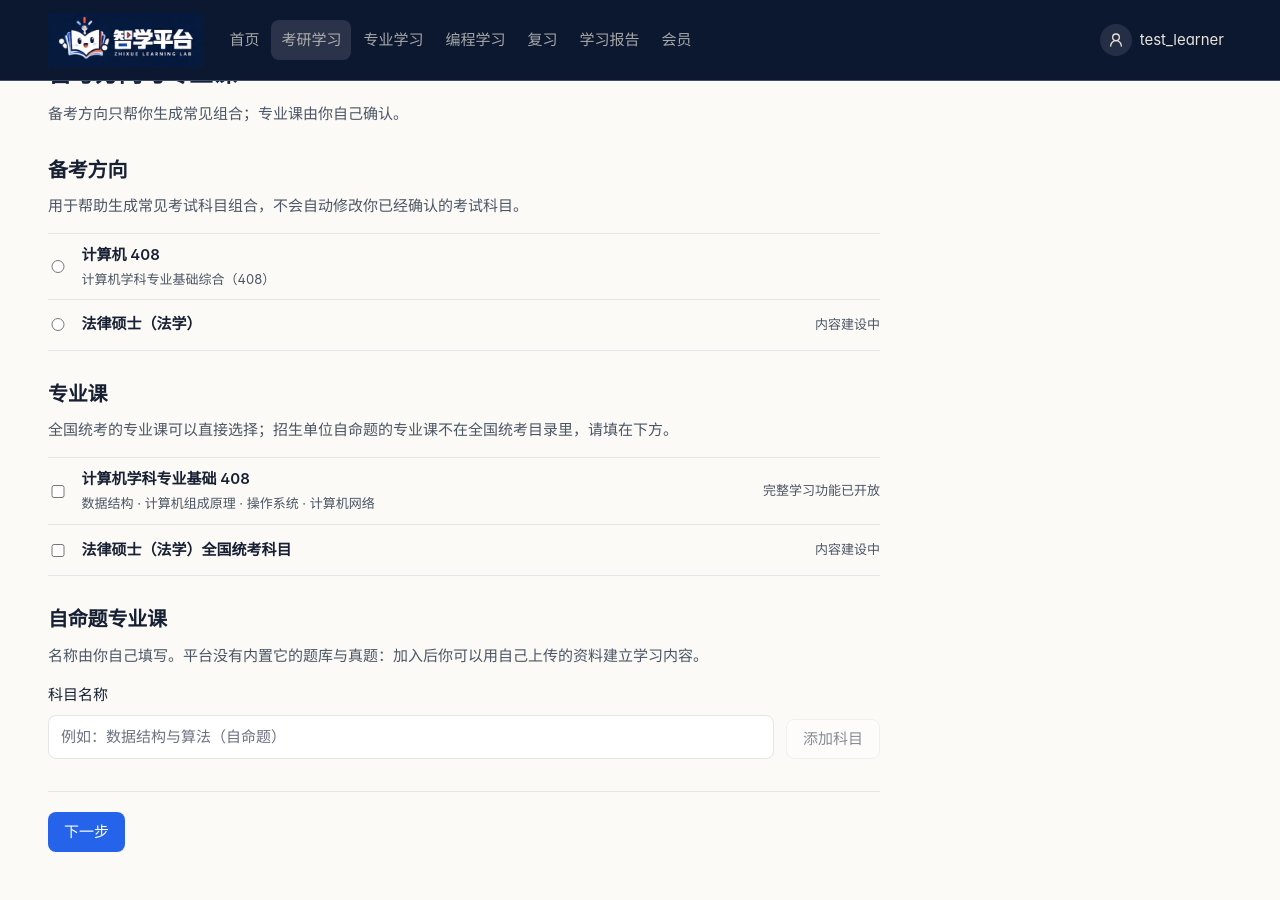
设置考试方案 › walks backwards through the steps with 上一步
(page scrolled)
Expected: the button "上一步" is not shown
Click the button "下一步": (86, 832) [48,812,125,852]
(page scrolled)
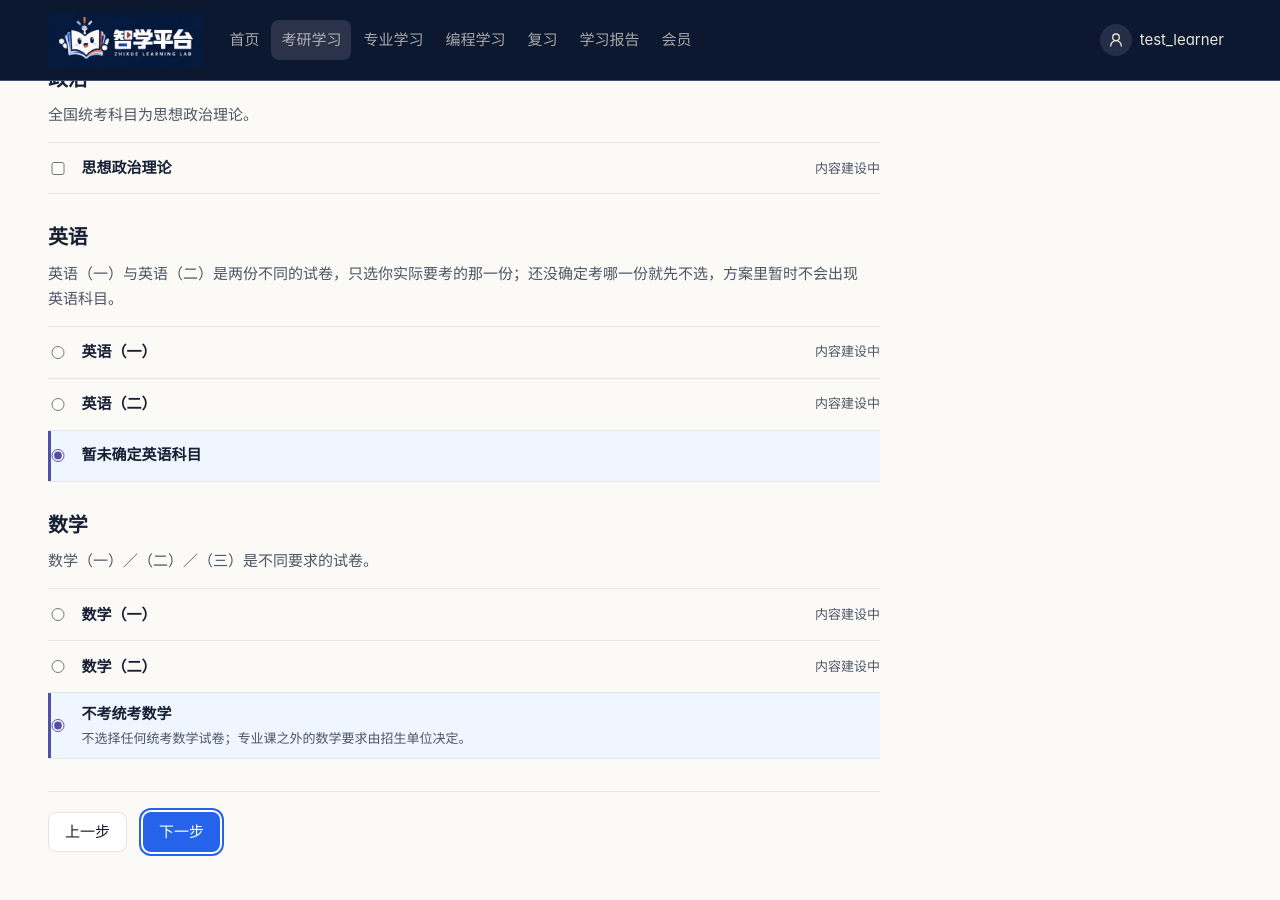
Click the button "上一步": (88, 832) [48,812,127,852]
(page scrolled)
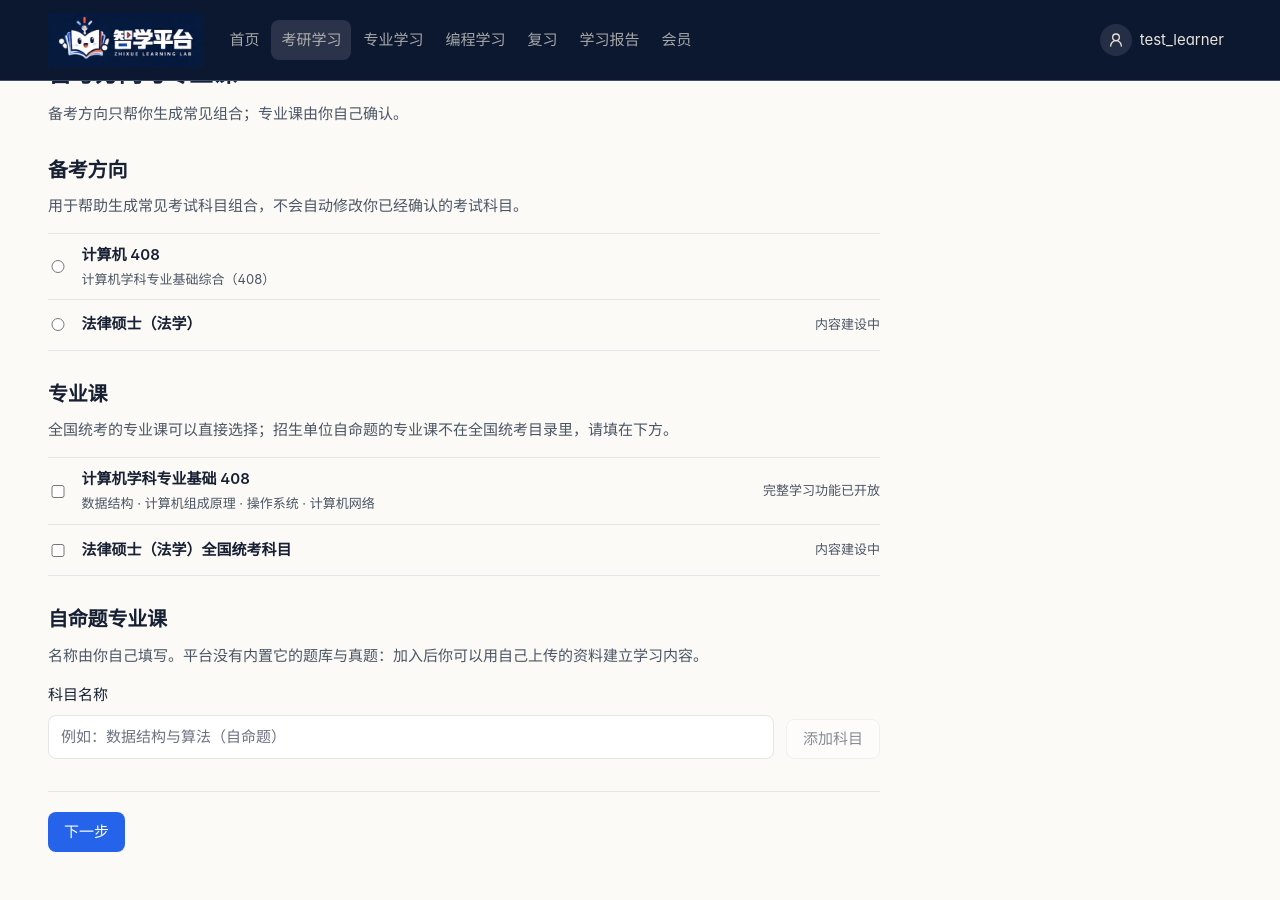
Click the button "下一步": (86, 832) [48,812,125,852]
(page scrolled)
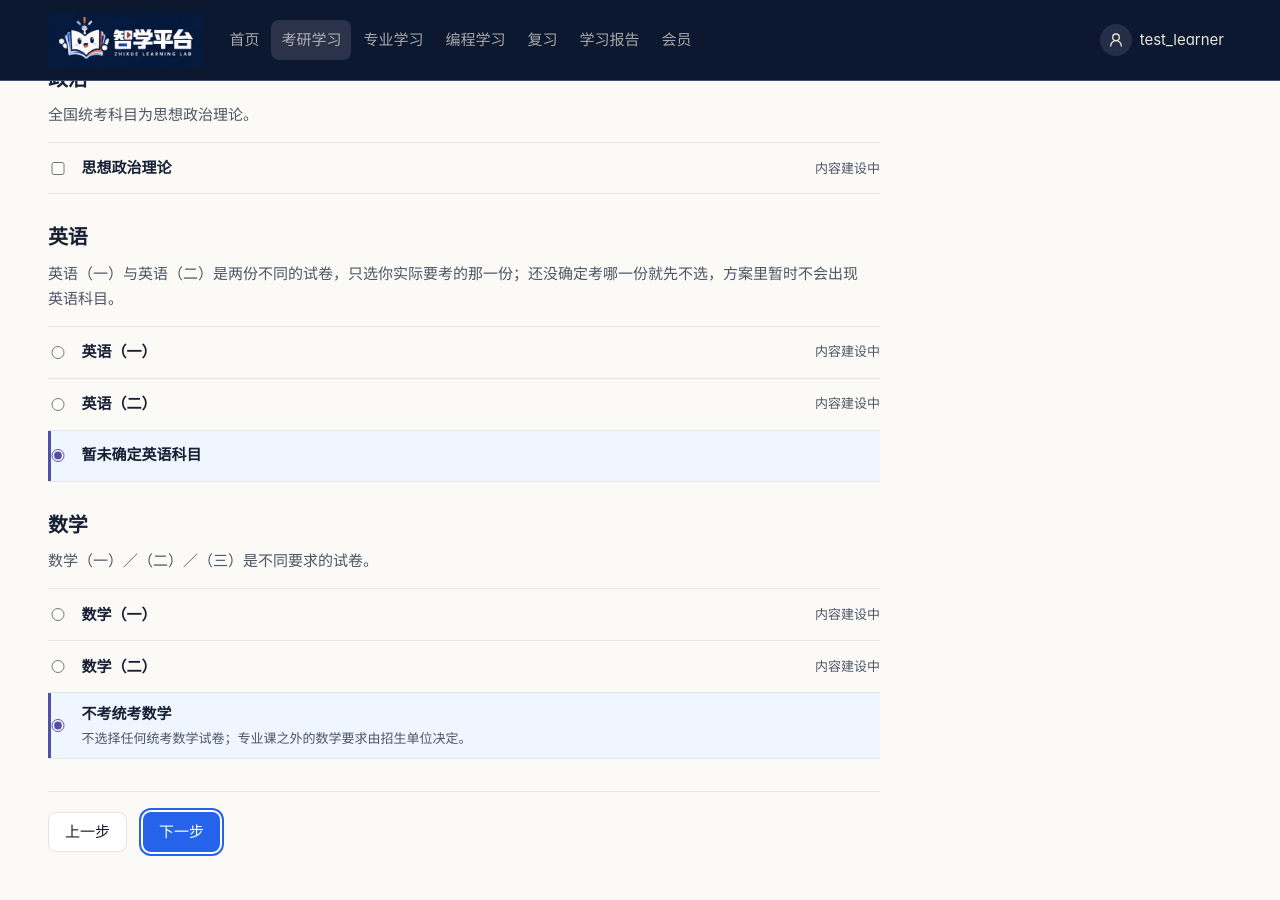
Click the button "下一步": (182, 832) [143,812,220,852]
(page scrolled)
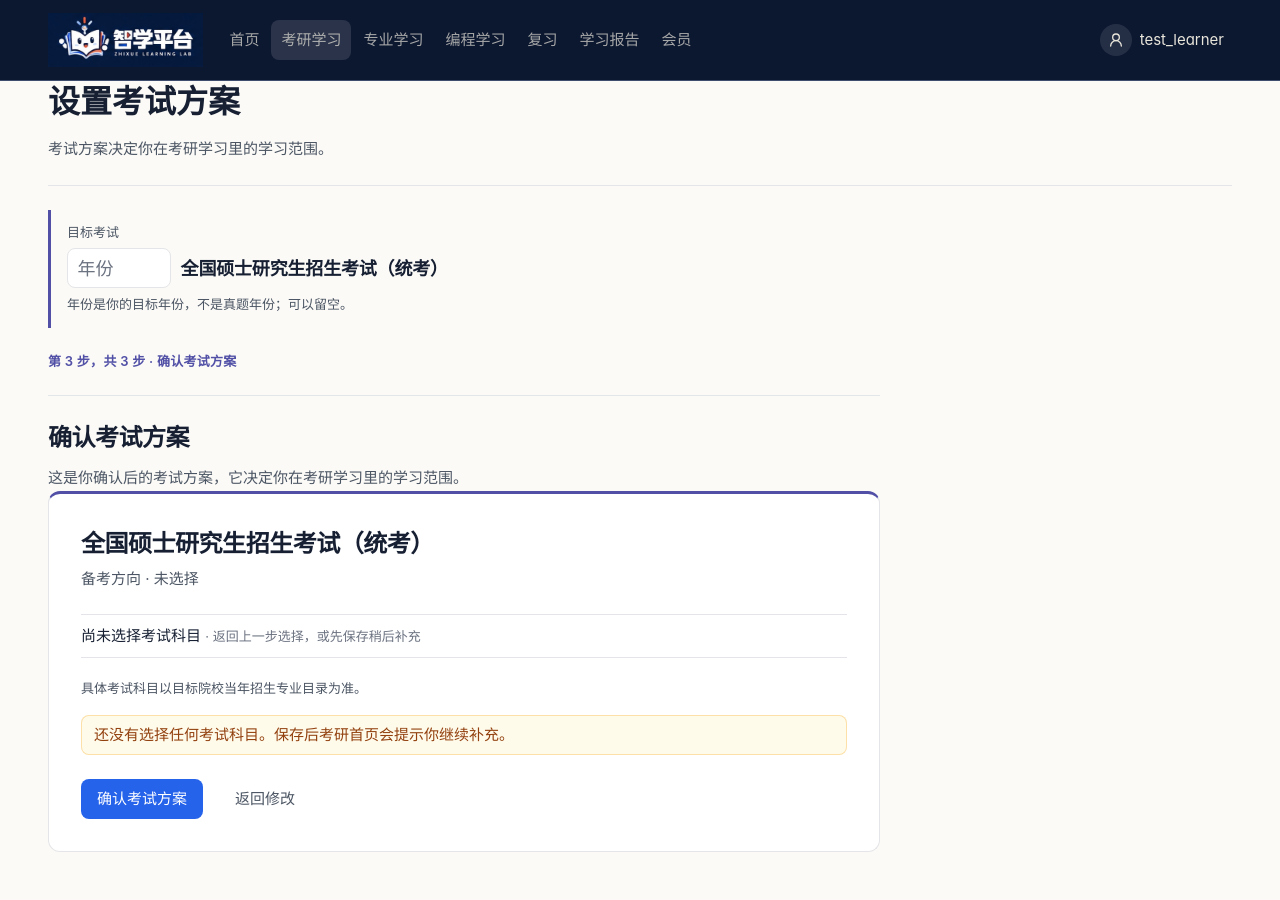
Result: the text "第 3 步，共 3 步 · 确认考试方案" is shown at [48,353,237,369]
